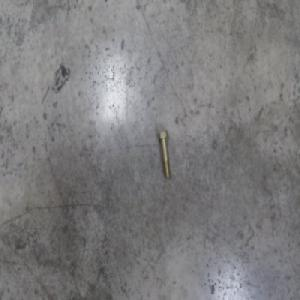Bolt: (157, 130, 171, 180)
